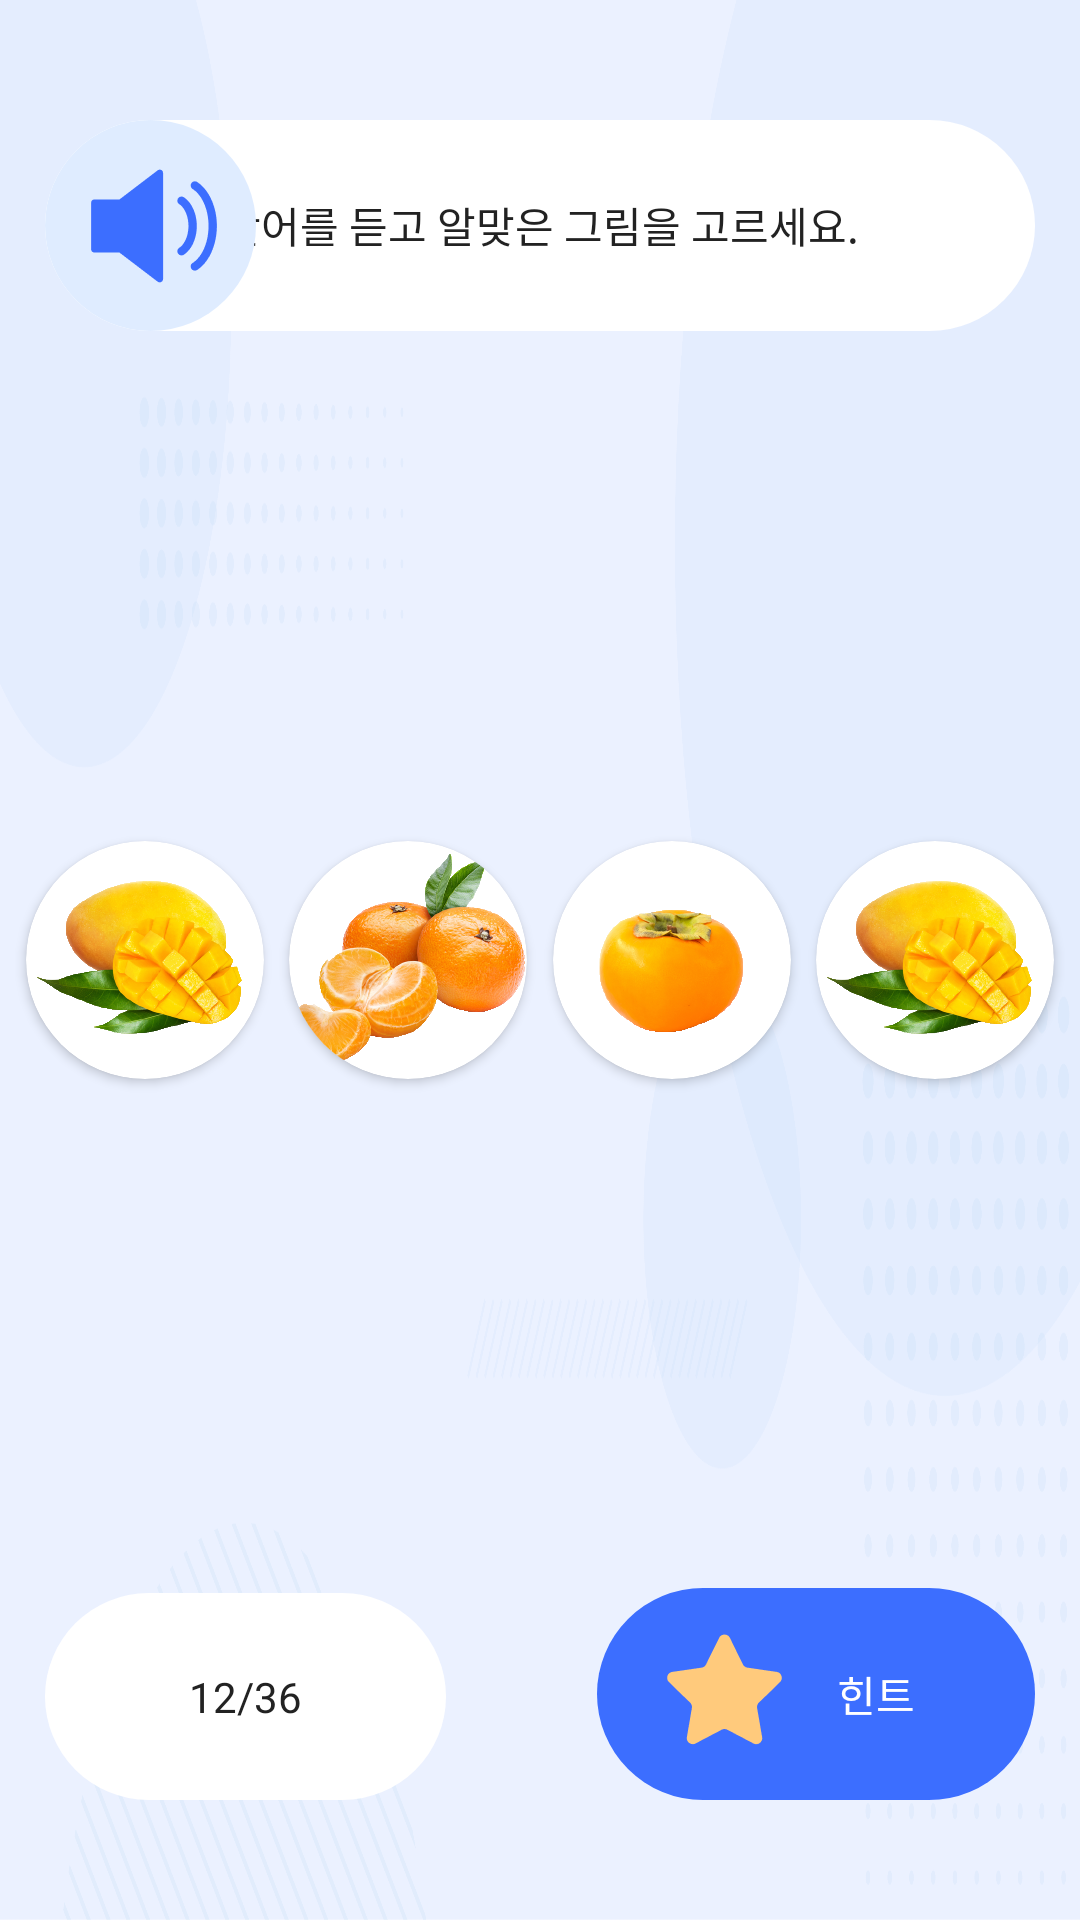

Point at icon controls on the screen. Image size 1080x1920, points as (x,y).
sound: (154,226)
star: (724,1689)
